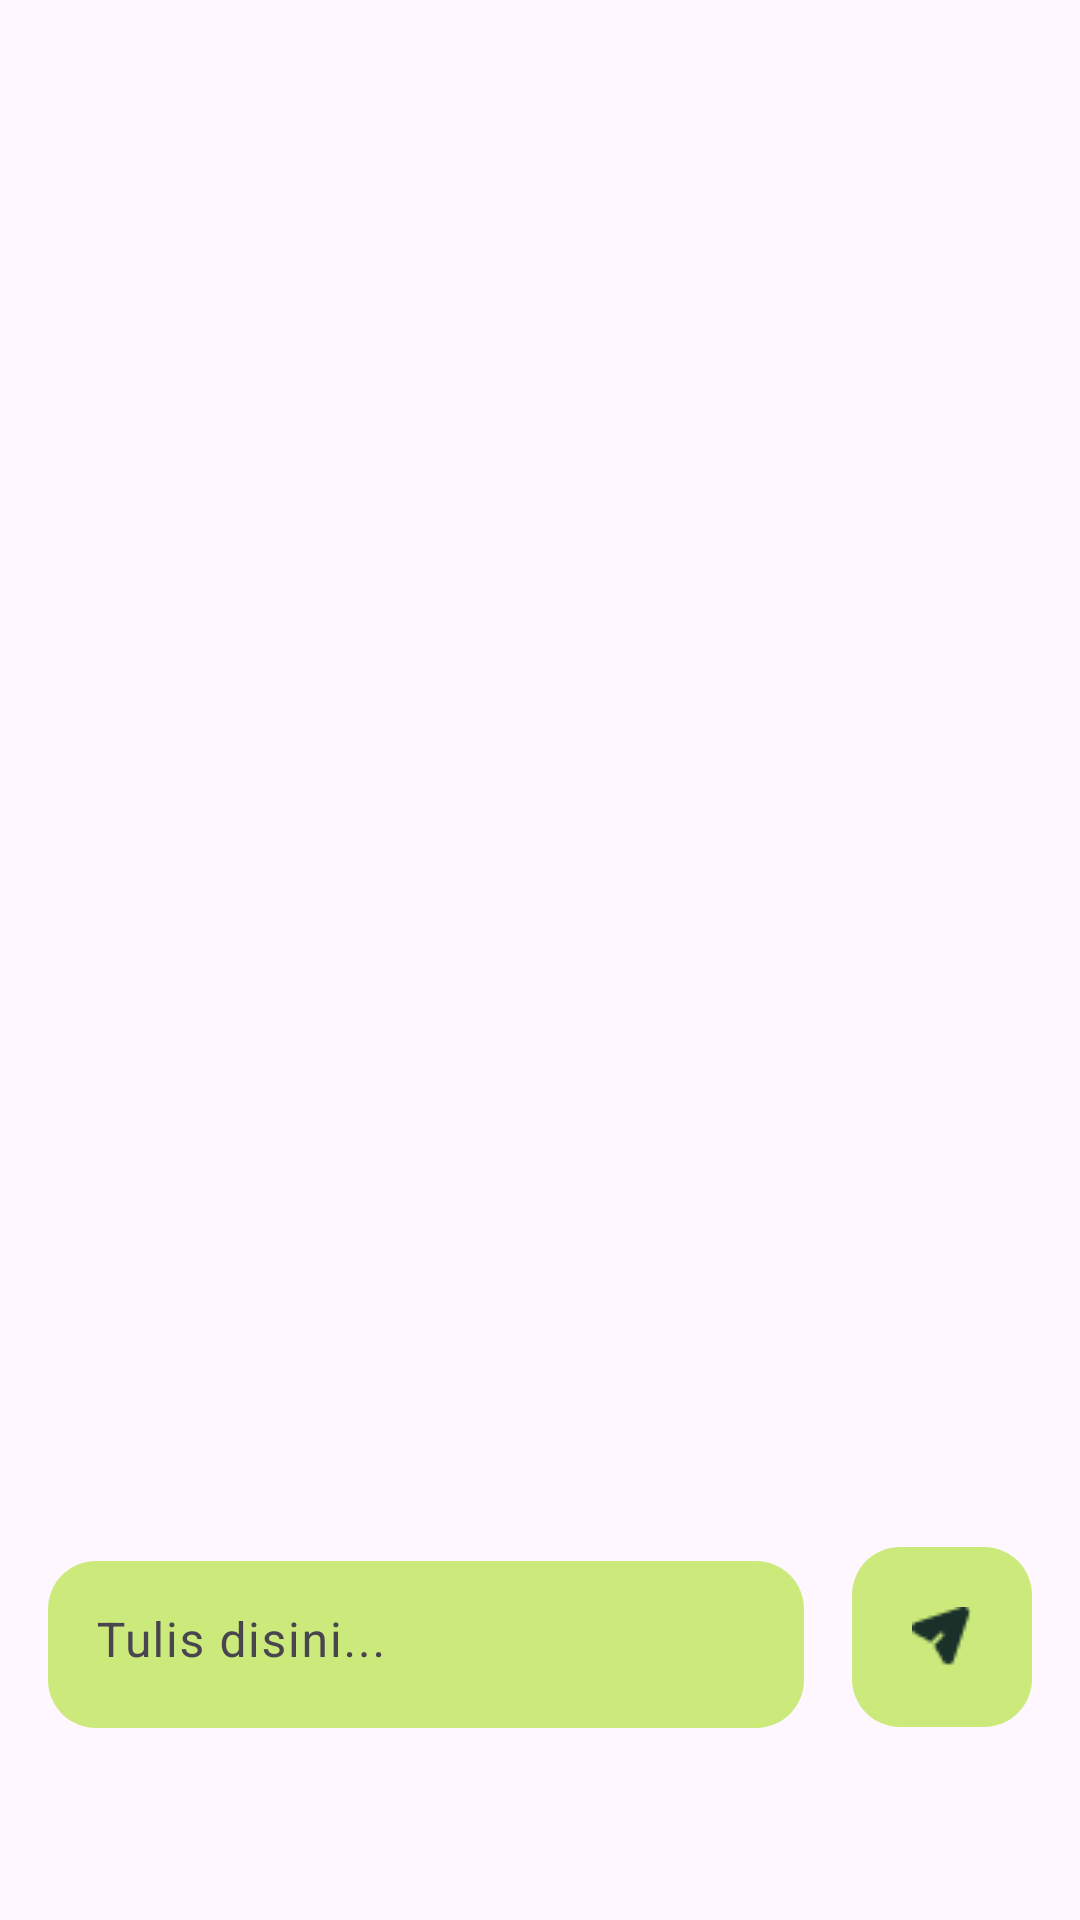

Where icons sit on this 1080 × 1920 app screen, as (x1, y1, x2, y2):
send: (852, 1547, 1032, 1727)
